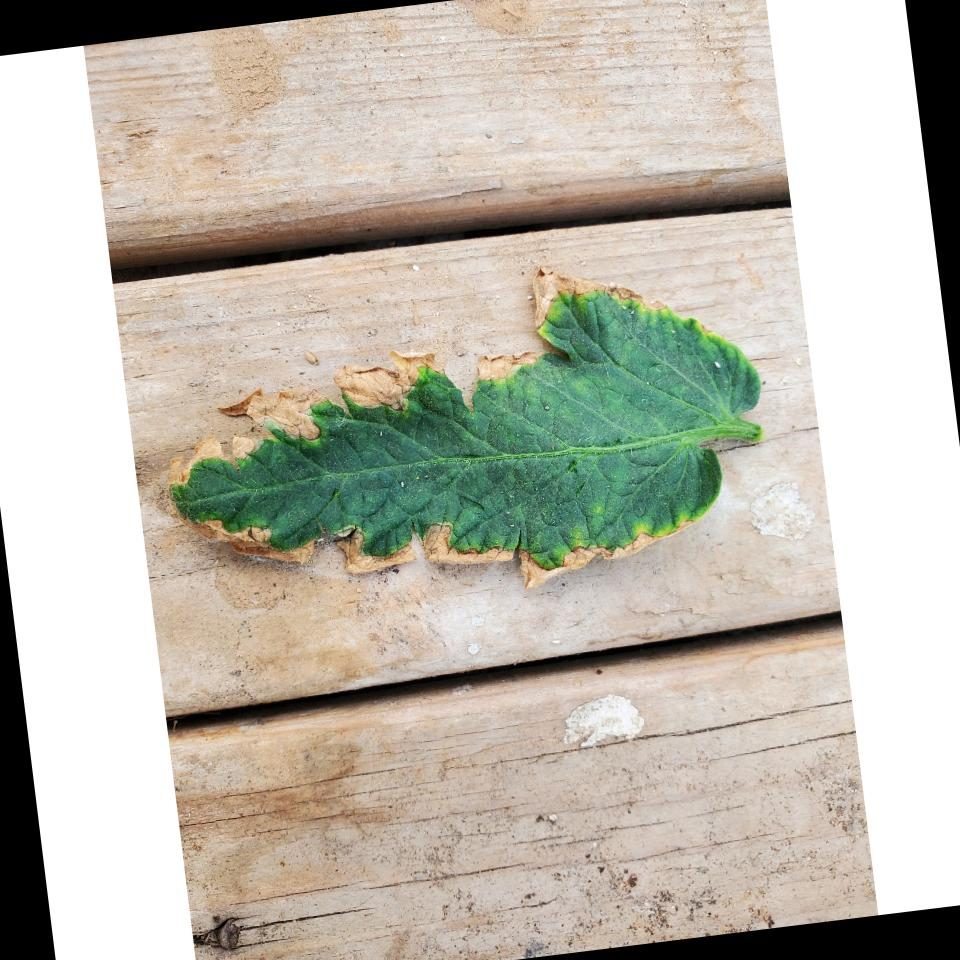tomato_bacterial_blight: (152, 274, 802, 610)
